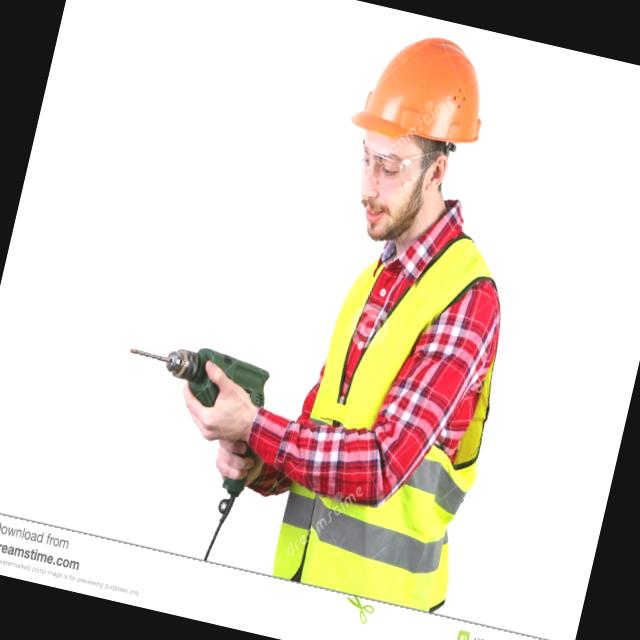goggles: (345, 136, 456, 201)
helmet: (340, 27, 505, 180)
vest: (252, 218, 534, 626)
